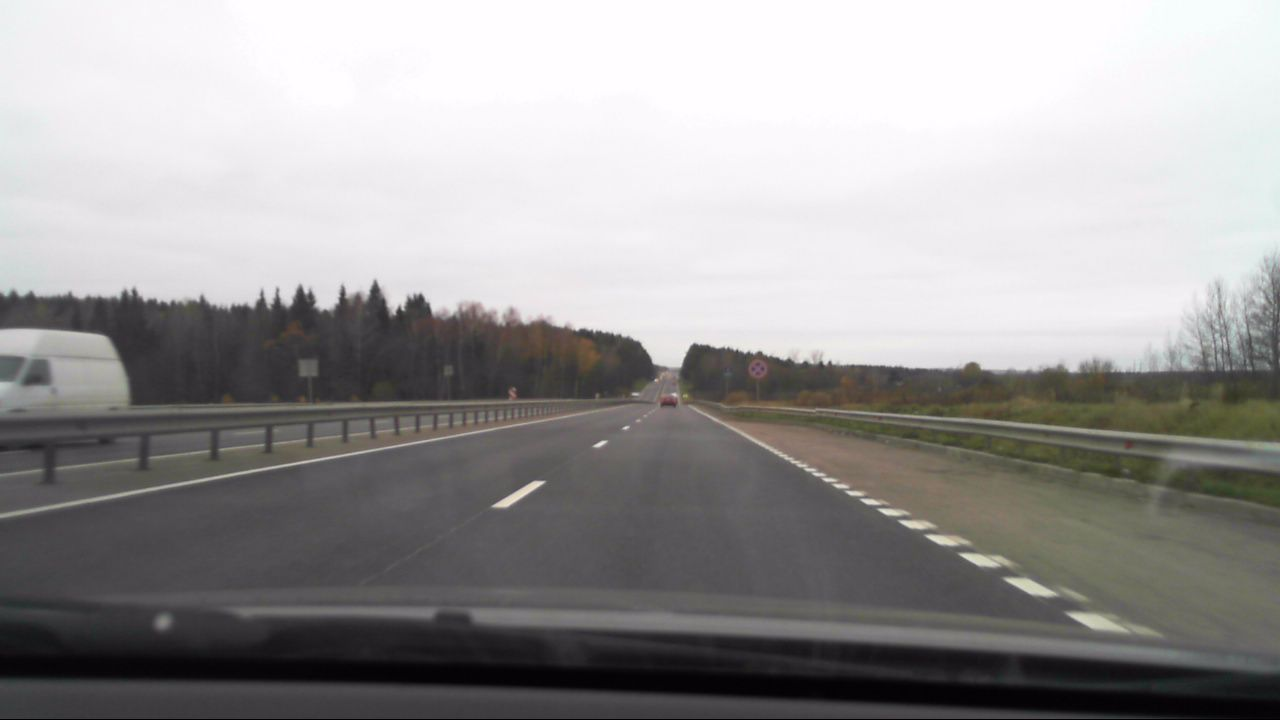No Parking: (747, 358, 769, 379)
